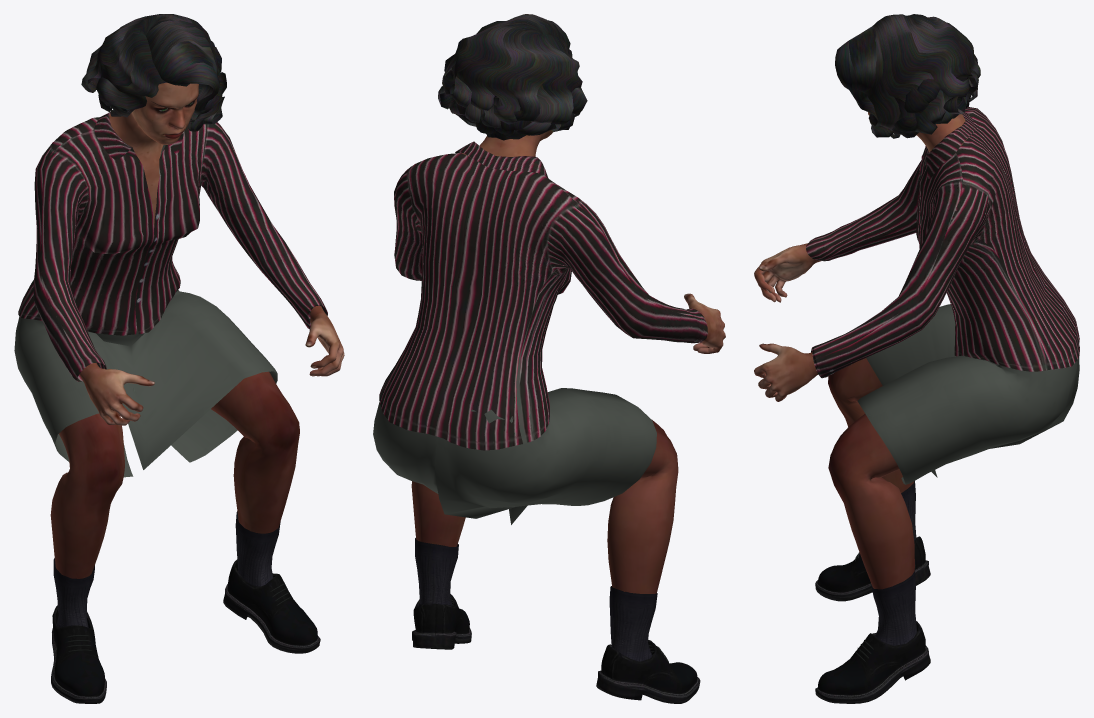
Rendered from donna-03.glb.
3 renders of one model, left to right at view 1: azimuth 30°, elevation 25°; view 2: azimuth 150°, elevation 25°; view 3: azimuth 270°, elevation 25°, orthographic. The views are drawn at different scales.
Visible parts, largest first — view 1: Human.female_elegantsuit01, Human, Human.shoes03, Human.elvs_wavy_bob; view 2: Human.female_elegantsuit01, Human.elvs_wavy_bob, Human, Human.shoes03; view 3: Human.female_elegantsuit01, Human, Human.elvs_wavy_bob, Human.shoes03.
Part boxes in pixels (<box>): Human.female_elegantsuit01: <box>14,111,327,477</box>; Human: <box>50,82,344,578</box>; Human.shoes03: <box>51,511,320,703</box>; Human.elvs_wavy_bob: <box>81,14,226,131</box>; Human.female_elegantsuit01: <box>373,141,707,524</box>; Human.elvs_wavy_bob: <box>438,14,587,140</box>; Human: <box>411,130,725,593</box>; Human.shoes03: <box>412,538,700,703</box>; Human.female_elegantsuit01: <box>806,107,1079,484</box>; Human: <box>754,112,967,589</box>; Human.elvs_wavy_bob: <box>835,14,980,138</box>; Human.shoes03: <box>815,481,930,703</box>.
Bounding box in the file's own units: 0.5685 × 1.34 × 0.6301.
Materials: 12 (12 with a texture image).
